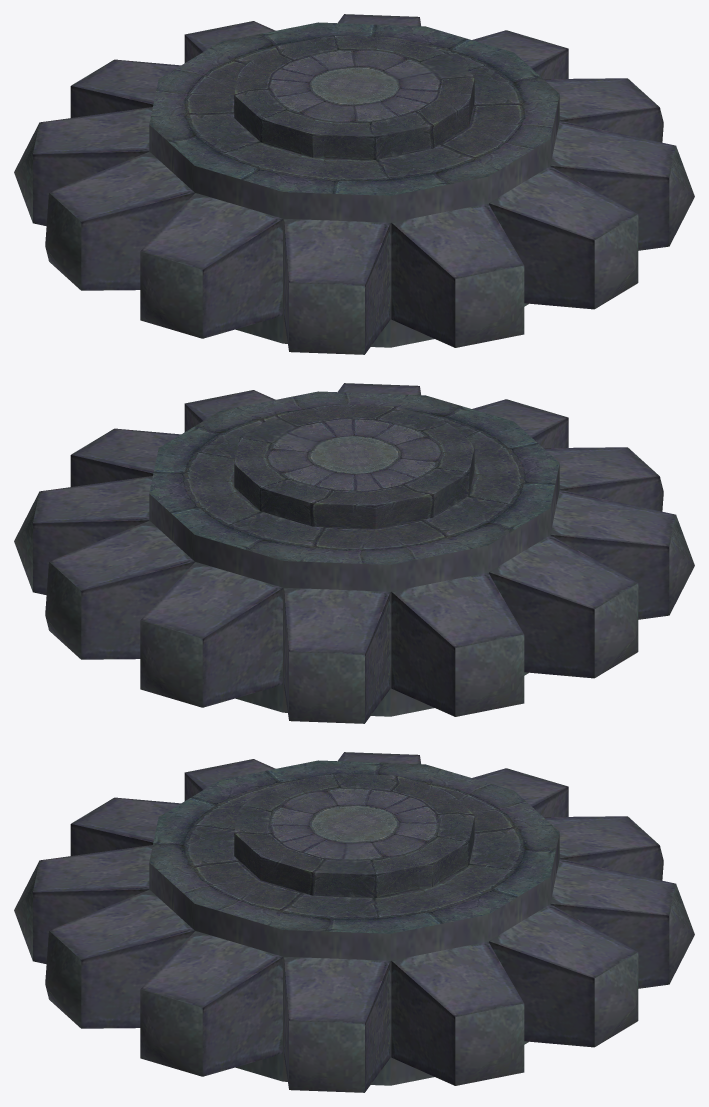
File: environment_Building_yingdi_hantianta_002_g.FBX
The picture shows the model from 3 angles, top to bottom: view 1: azimuth 30°, elevation 25°; view 2: azimuth 150°, elevation 25°; view 3: azimuth 270°, elevation 25°; orthographic projection.
Parts seen in each view (by area): view 1: environment_Building_yingdi_hantianta_002_g1, environment_Building_yingdi_hantianta_002_g2; view 2: environment_Building_yingdi_hantianta_002_g1, environment_Building_yingdi_hantianta_002_g2; view 3: environment_Building_yingdi_hantianta_002_g1, environment_Building_yingdi_hantianta_002_g2.
Part boxes in pixels (bbox=[...]): environment_Building_yingdi_hantianta_002_g1: bbox=[14, 14, 694, 354]; environment_Building_yingdi_hantianta_002_g2: bbox=[234, 35, 474, 159]; environment_Building_yingdi_hantianta_002_g1: bbox=[14, 383, 694, 723]; environment_Building_yingdi_hantianta_002_g2: bbox=[234, 404, 474, 528]; environment_Building_yingdi_hantianta_002_g1: bbox=[14, 752, 694, 1092]; environment_Building_yingdi_hantianta_002_g2: bbox=[234, 773, 474, 897].
Bounding box in the file's own units: 2128 × 2128 × 676.
1 material, 1 textured.
